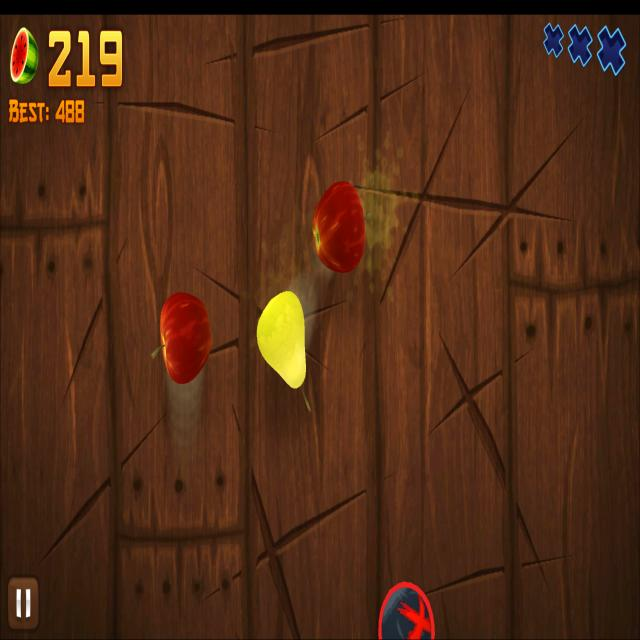bomb: (377, 581, 436, 640)
fruit: (159, 290, 213, 386), (313, 180, 367, 274), (256, 290, 307, 389)
